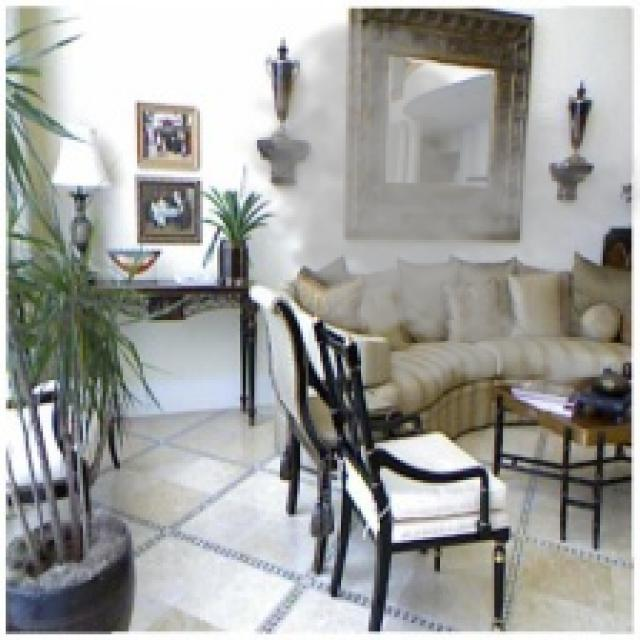smoke: (234, 12, 637, 414)
